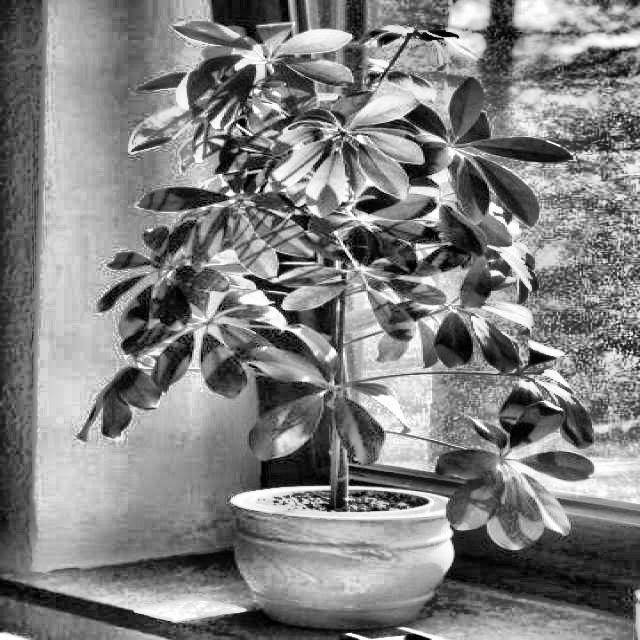plants: (82, 9, 578, 603)
